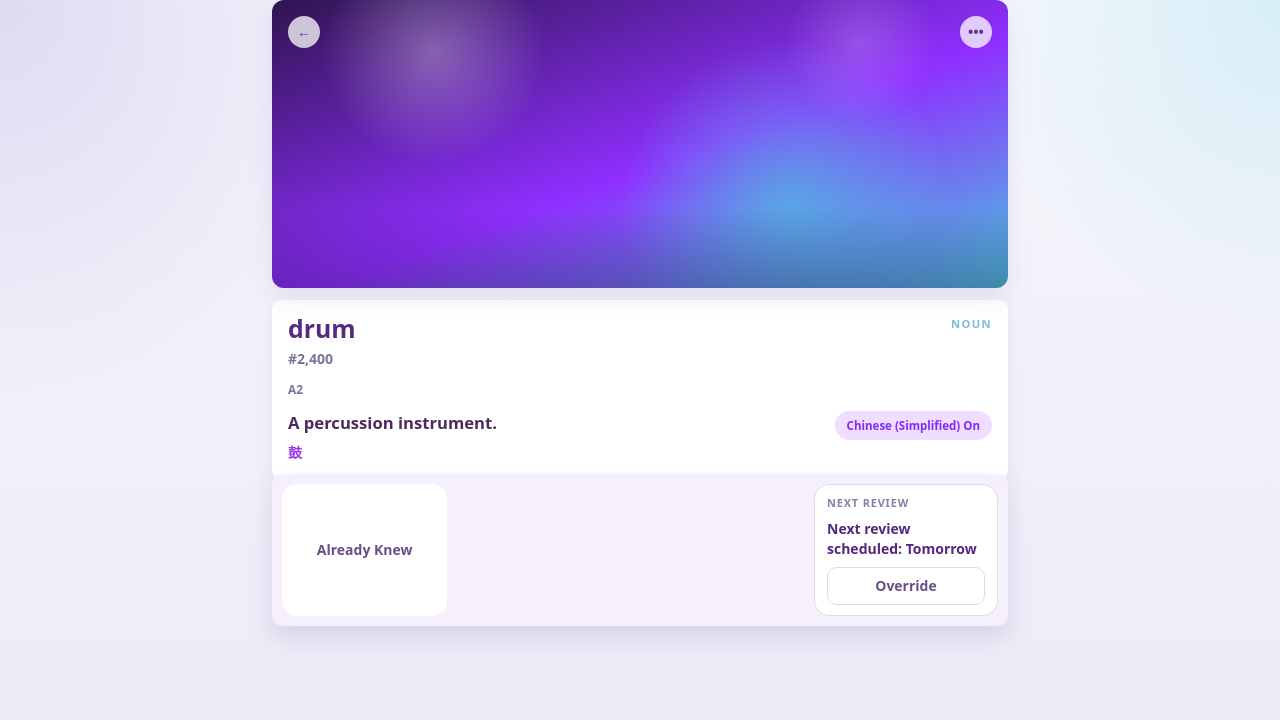
Test: KnowledgeEntryDetailPage › clears next-review controls immediately when an entry is marked as already knew
expect the text "Next Review" is shown: met, box [827,495,909,510]
Click the button "Already Knew" at (365,550), box [282,484,447,616]
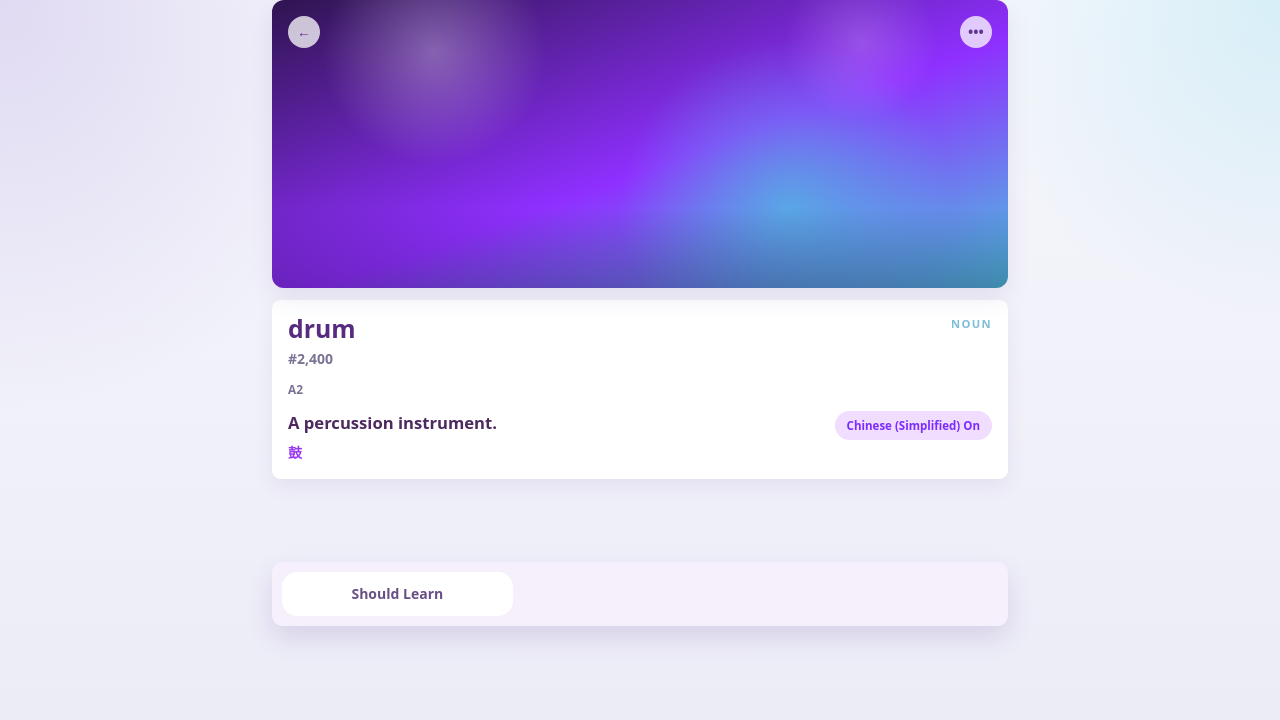
expect the text "Next Review" is gone: met
